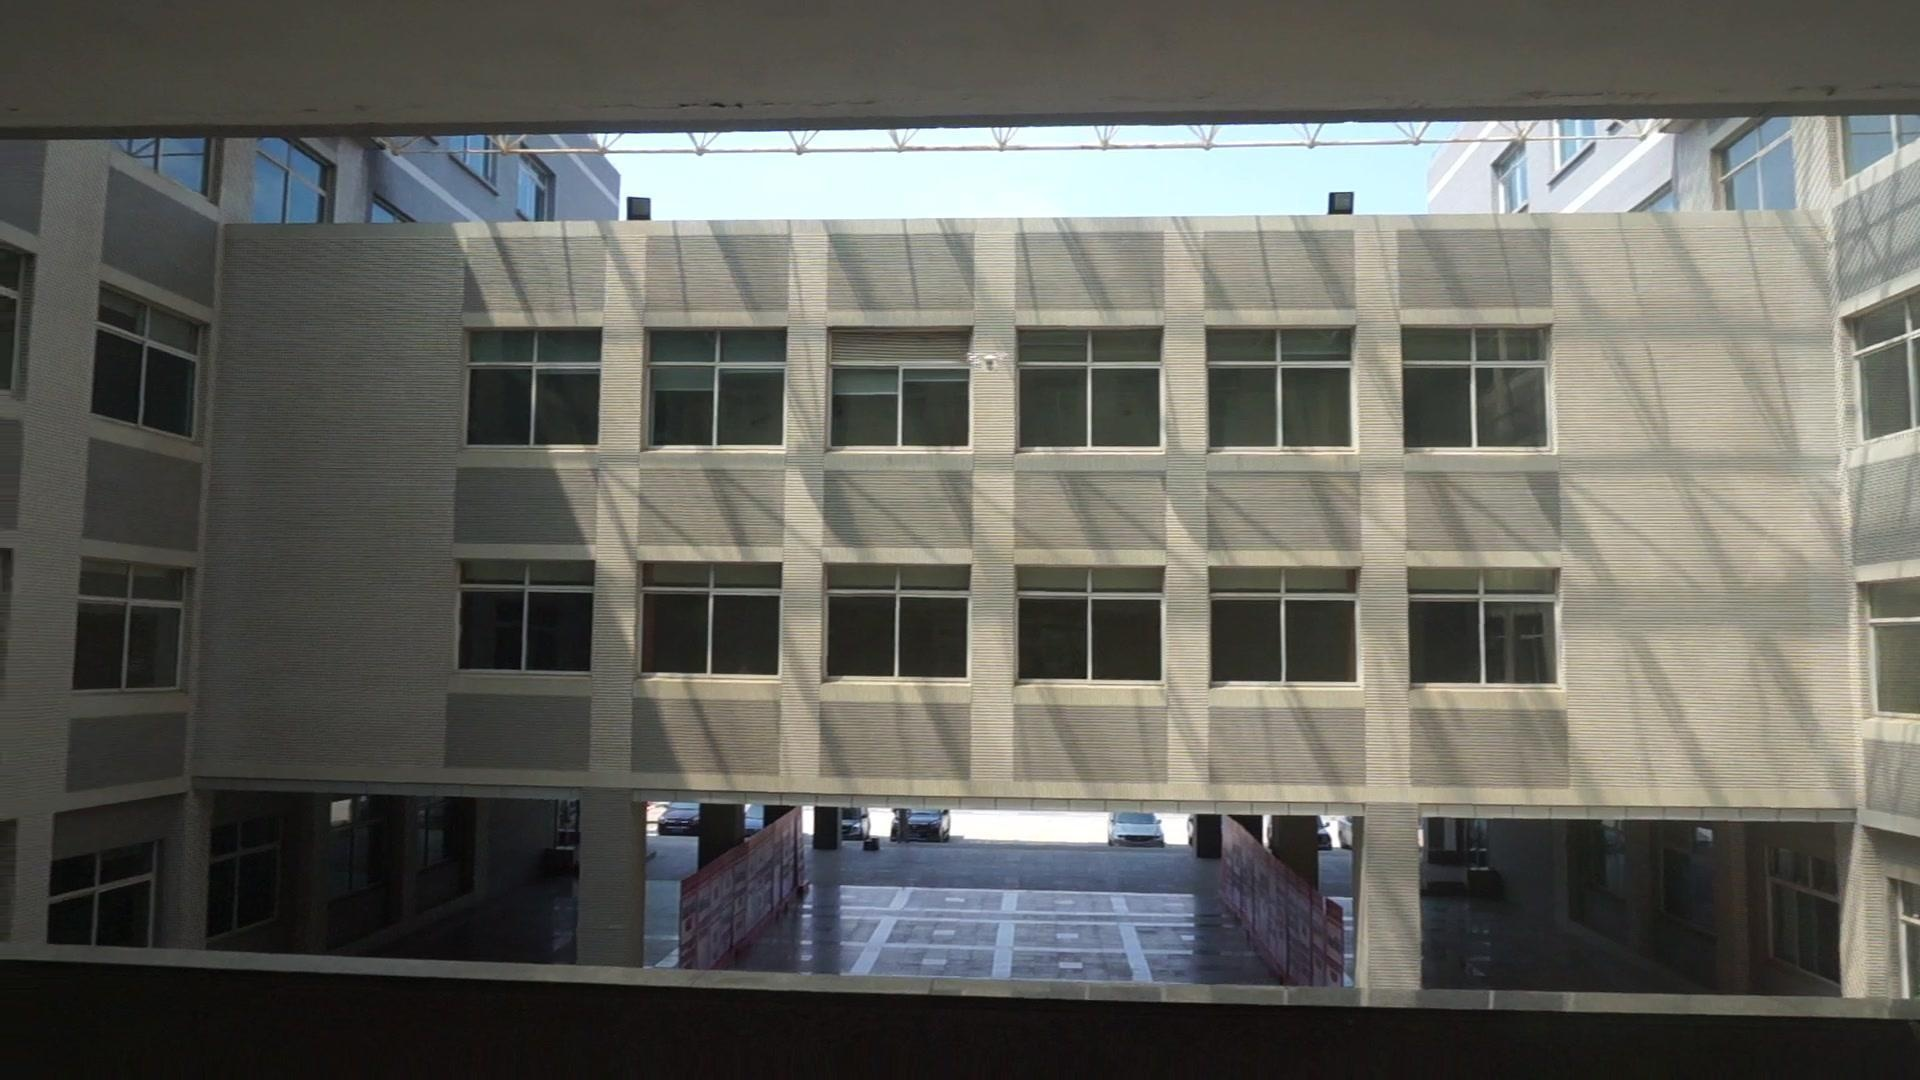UAV: (967, 352, 1010, 373)
